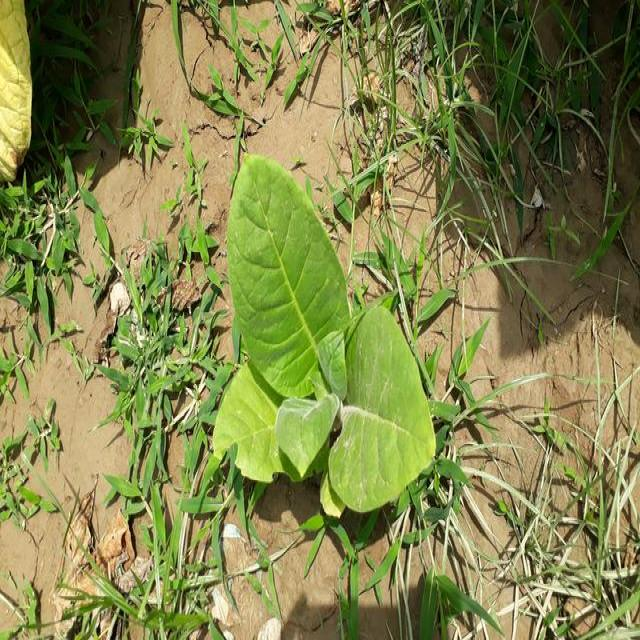crop: (218, 157, 438, 503), (0, 0, 30, 178)
